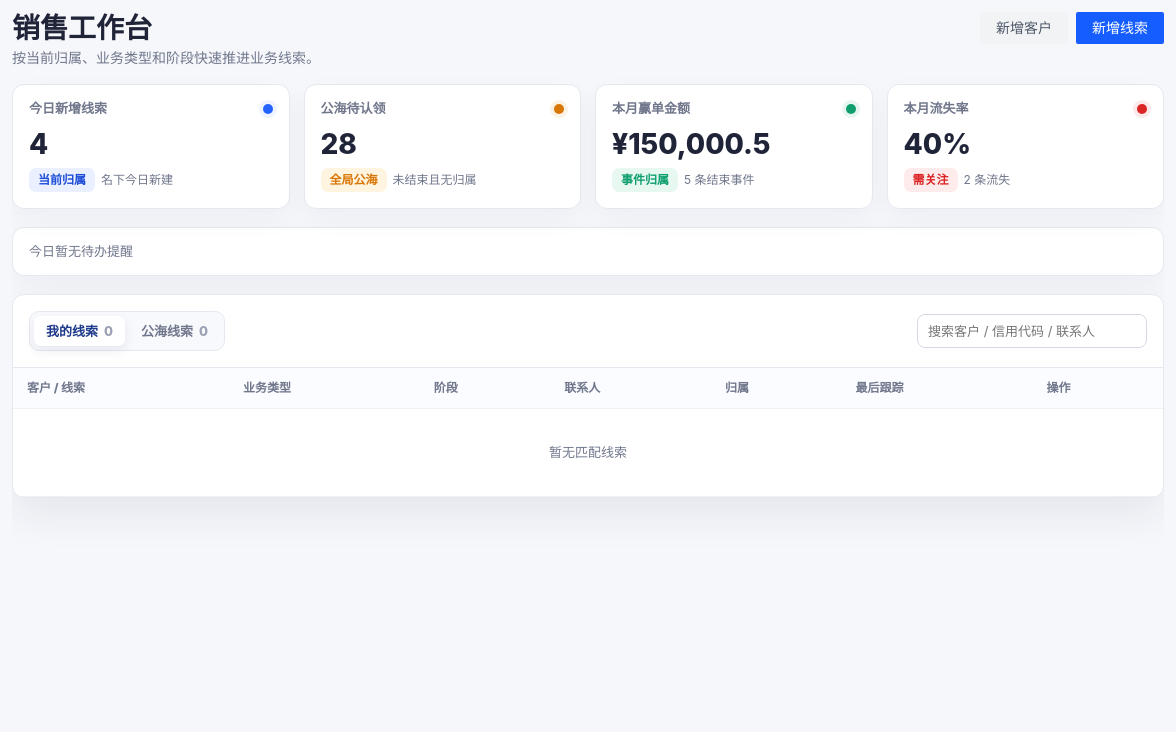
Scenario: 三 Tab 线索工作区 › 关键词搜索下推后端（服务端过滤，非客户端 filter）
Type "星河" into the search field with class "search" at (1032, 331), box [917, 314, 1147, 348]
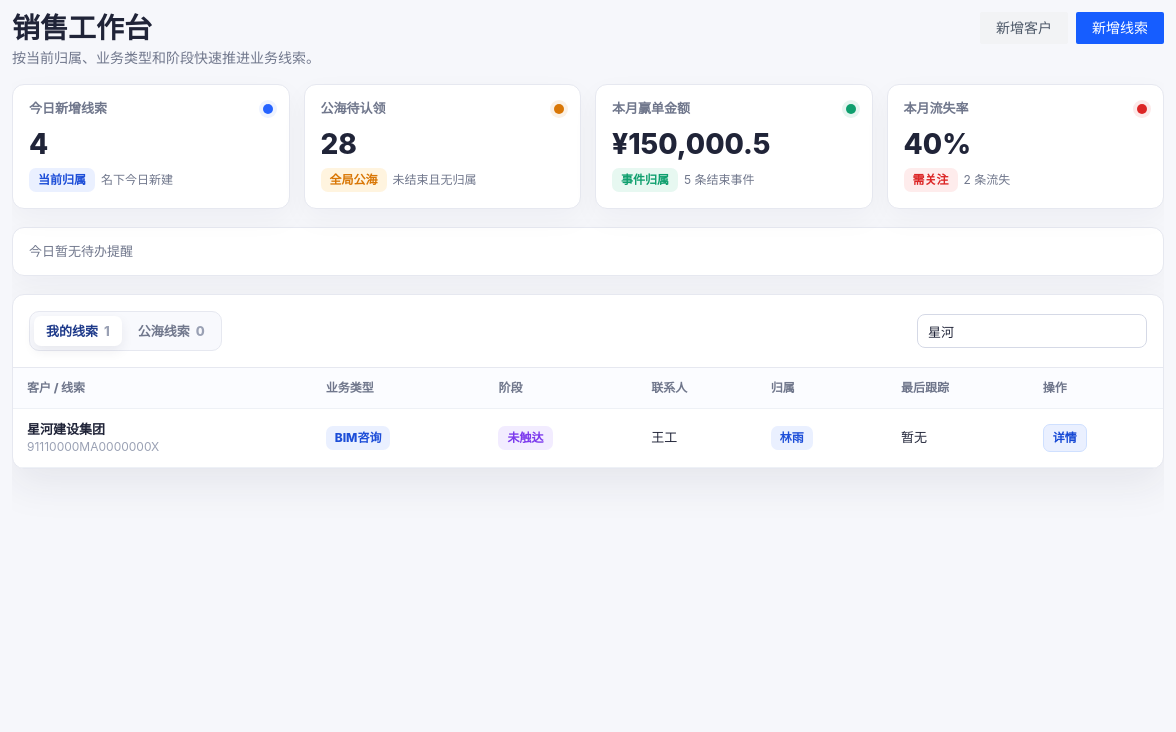
Now the element with test id "workbench-leads" shows "星河建设集团", box [27, 422, 159, 454]
